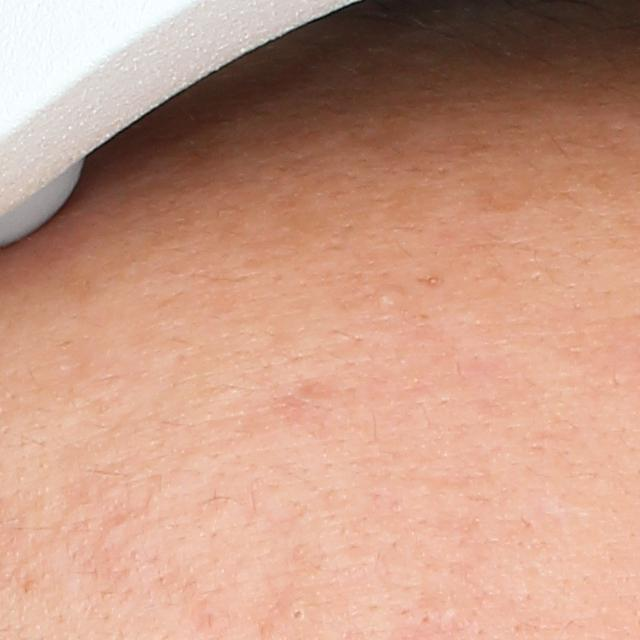comedo: (284, 600, 309, 626)
